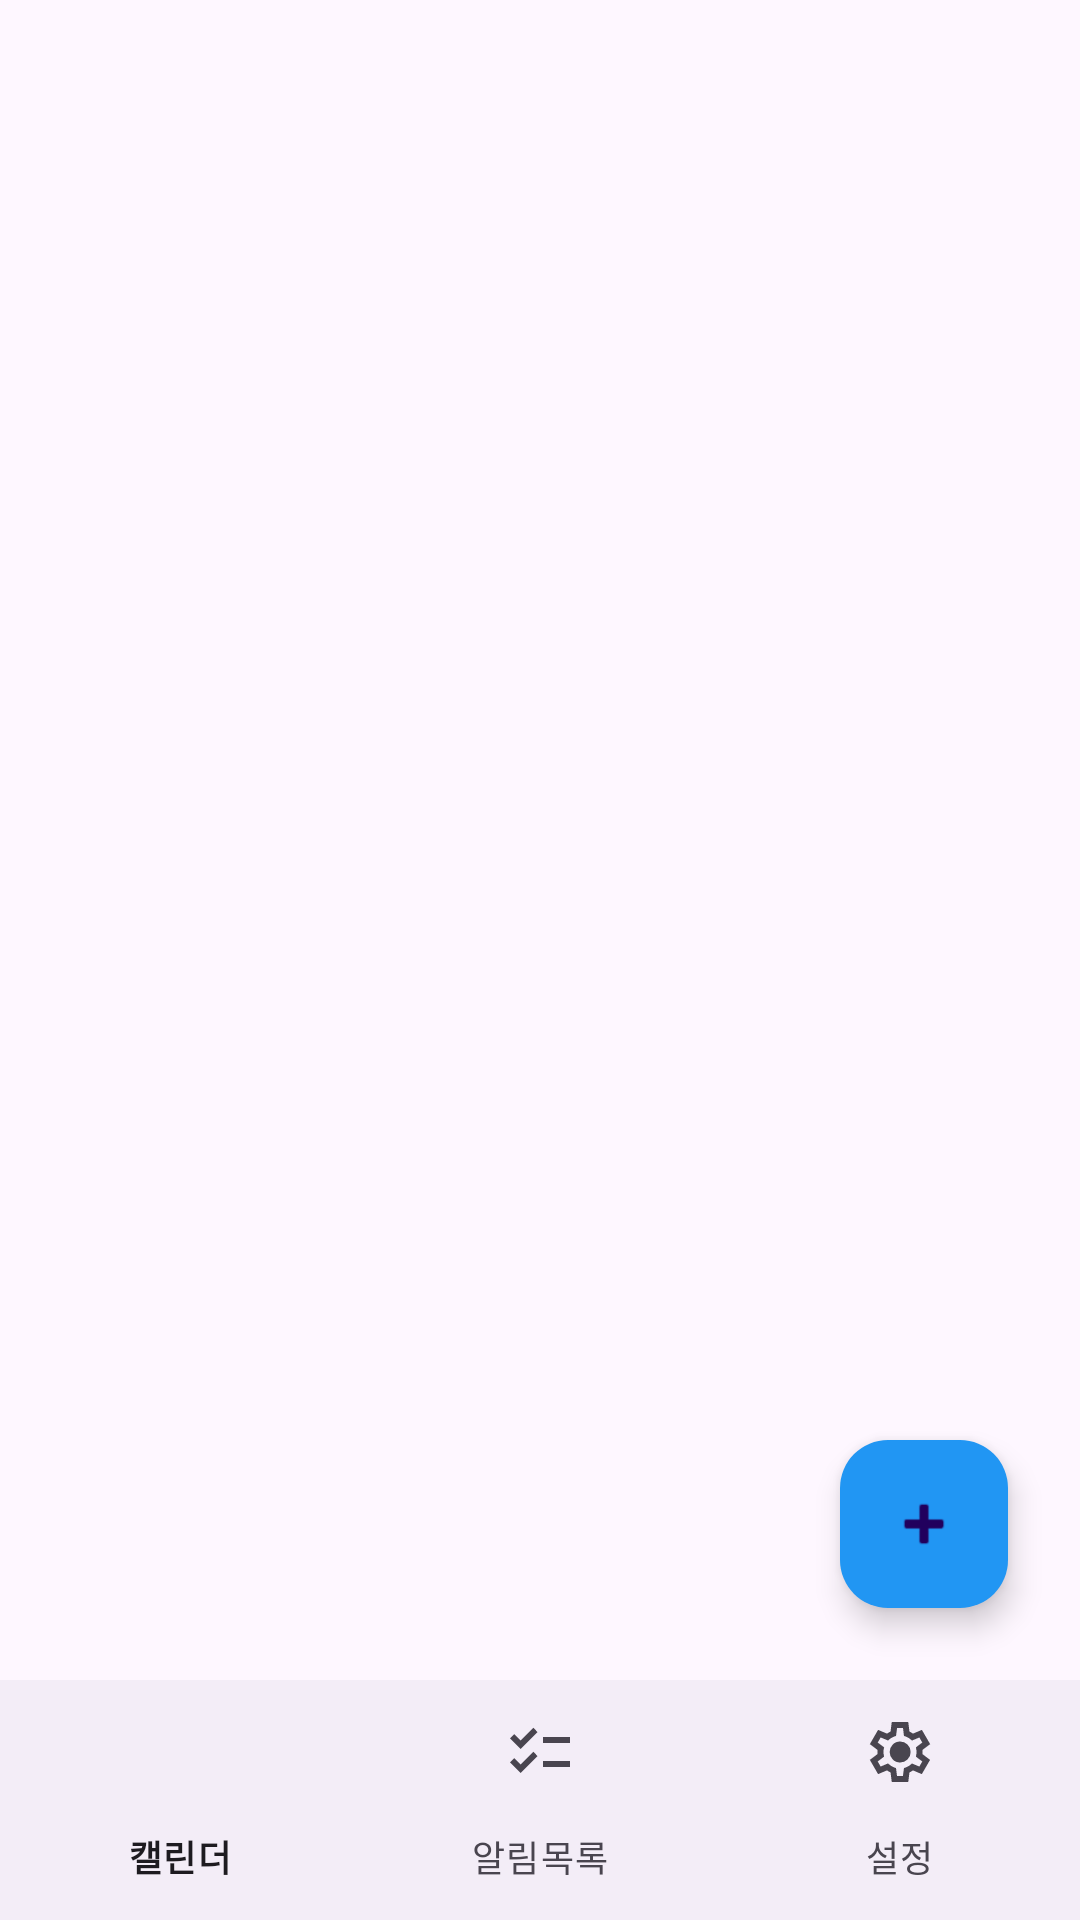

Screen size 1080*1920. Icon name, then its box in pixels as (x1,y1,x2,y2):
일정 추가: (840,1440,1008,1608)
